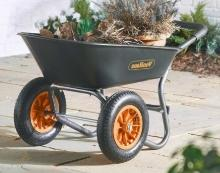BROUETTE: (0, 16, 216, 165)
